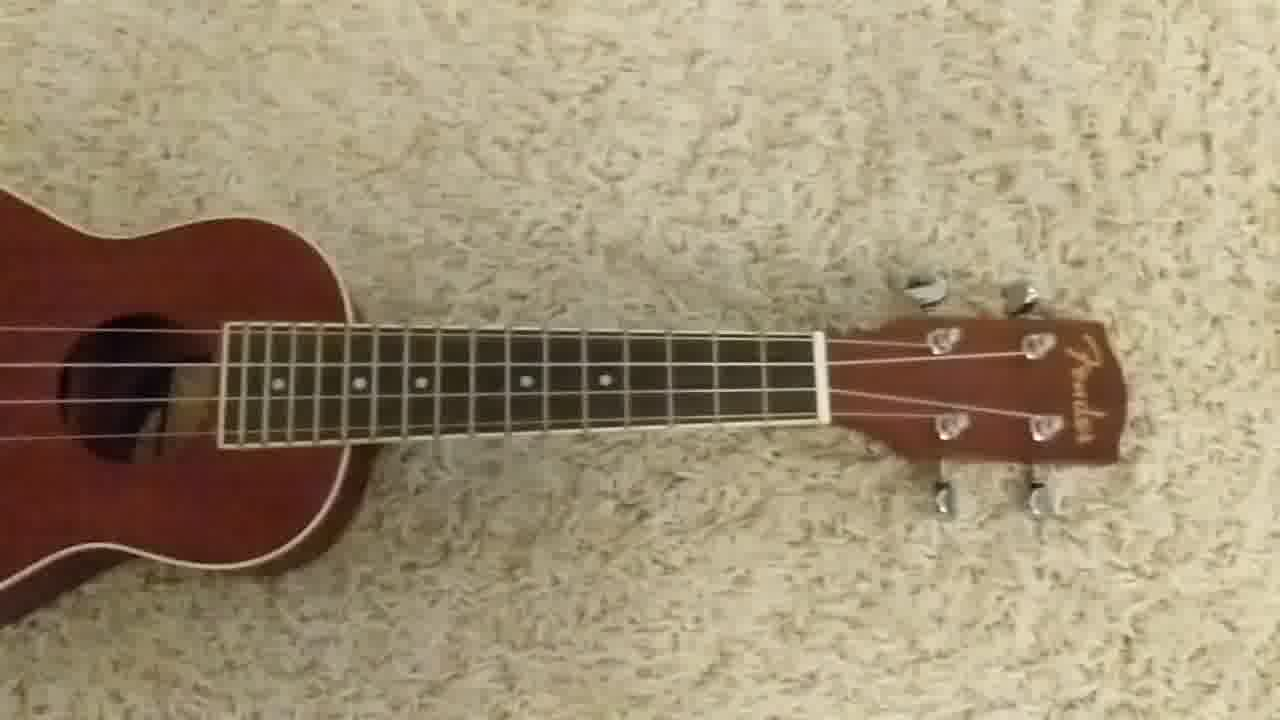Body: (1, 183, 369, 630)
Headstock: (825, 270, 1129, 523)
